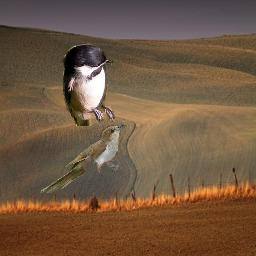Cuckoo: (40, 124, 127, 193)
Swallow: (61, 42, 117, 126)
